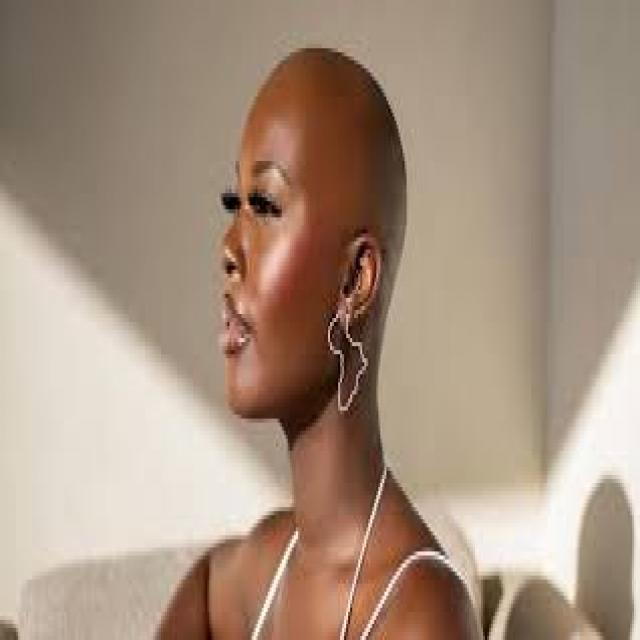bald: (230, 27, 414, 263)
